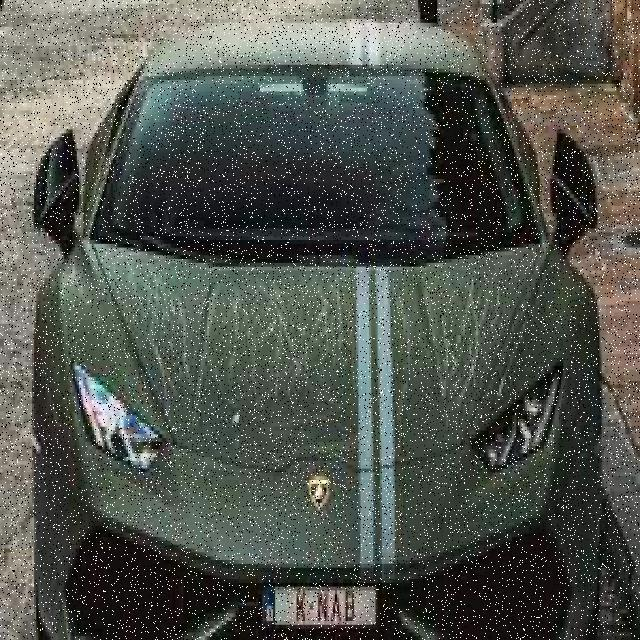headlight: (73, 240, 577, 511)
